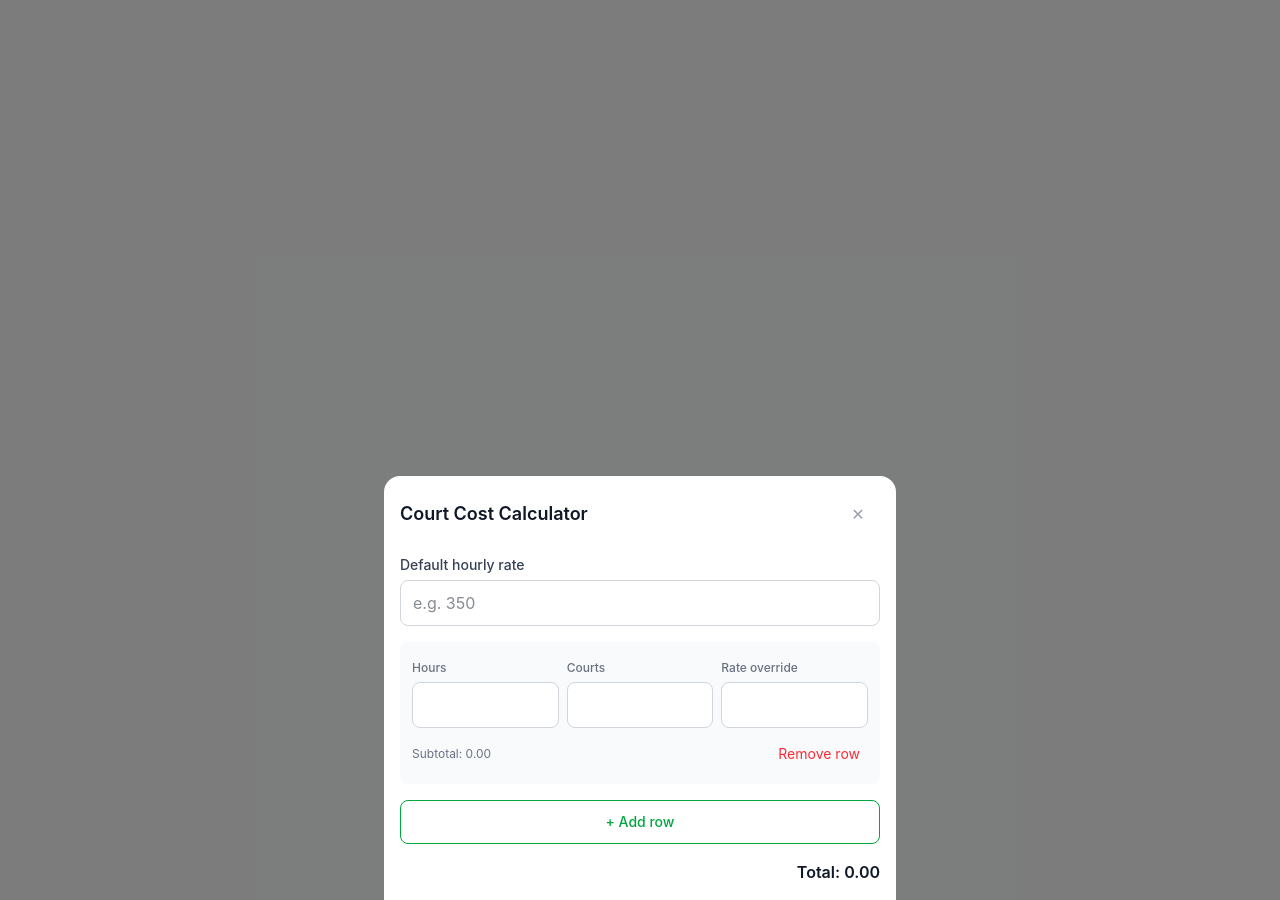
Test: CourtCostCalculator › adds and removes rows, summing subtotals
In the number field labelled "Default hourly rate": (640,603) [400,580,880,626], type "100"
In the number field labelled "Hours": (485,705) [412,682,559,728], type "1"
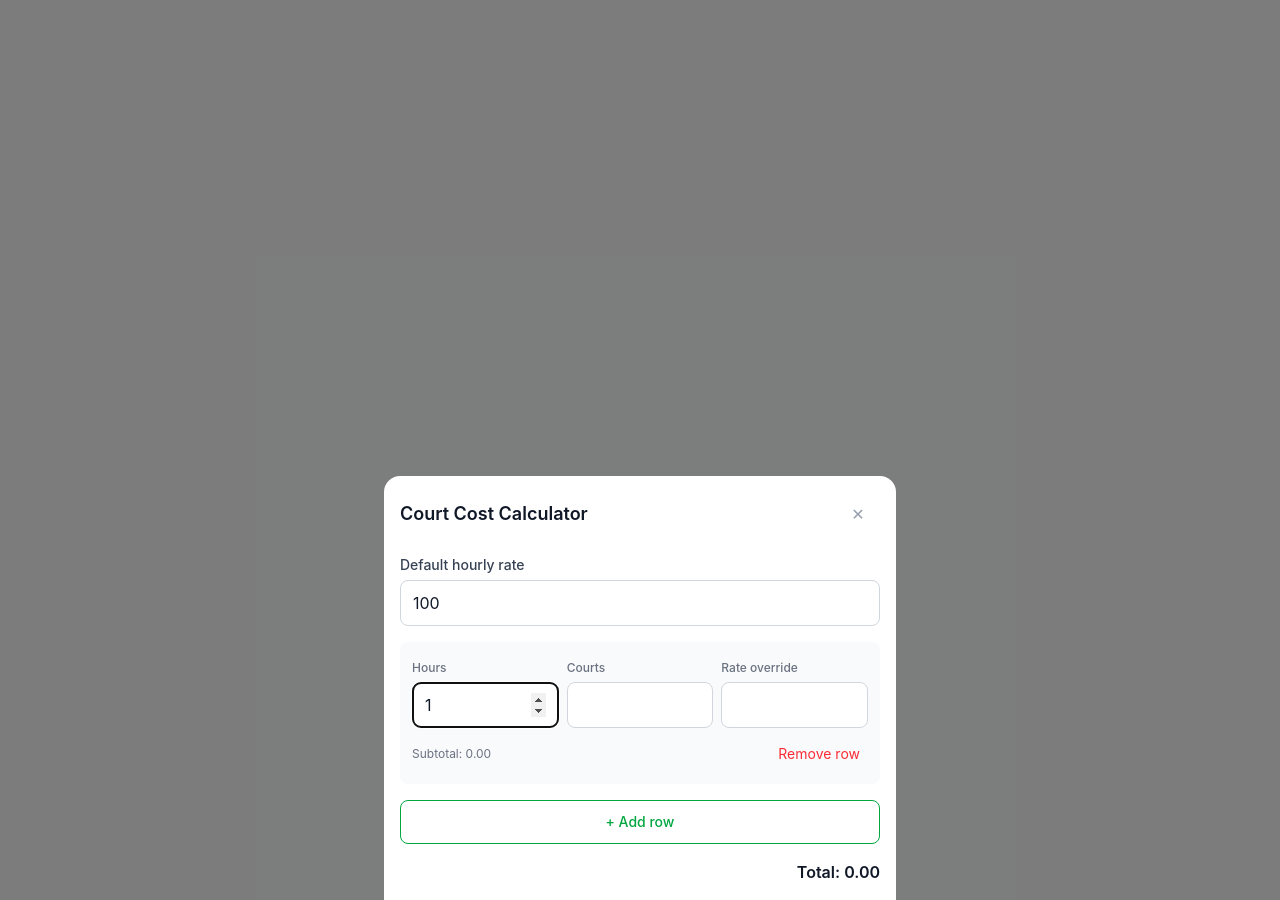
In the number field labelled "Courts": (640,705) [567,682,713,728], type "1"
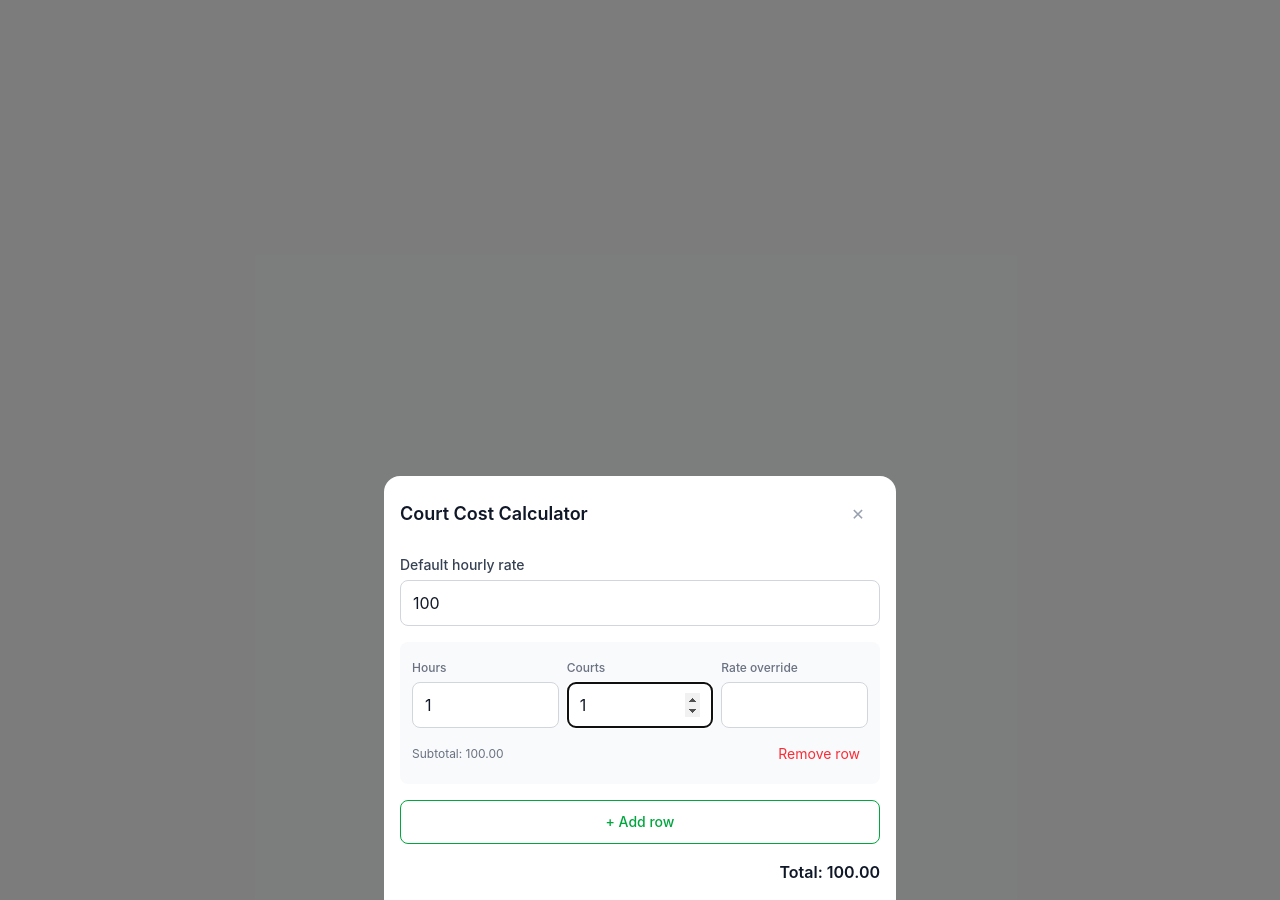
Click the button "+ Add row": (640,822) [400,800,880,844]
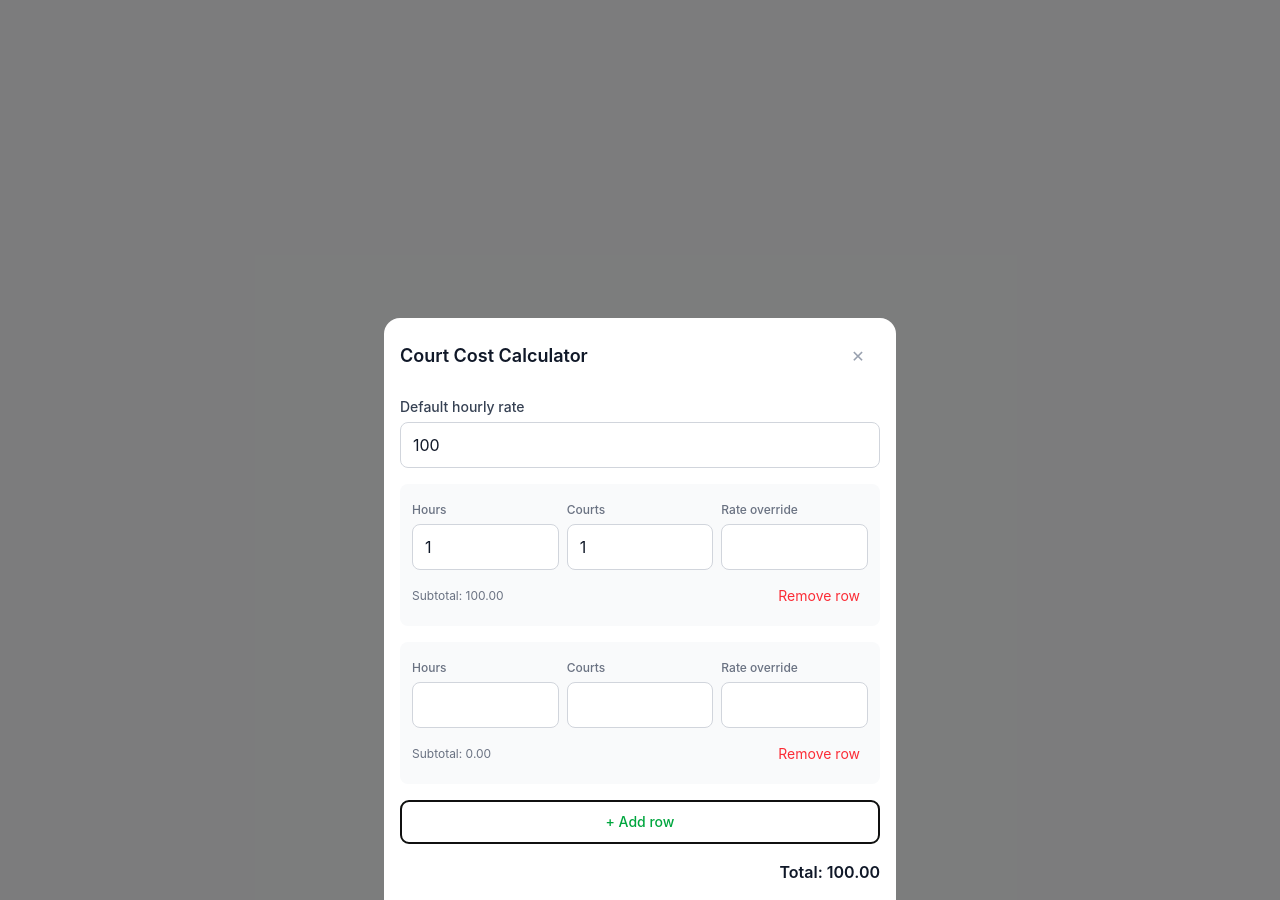
In the 2nd number field labelled "Hours": (485,705) [412,682,559,728], type "2"
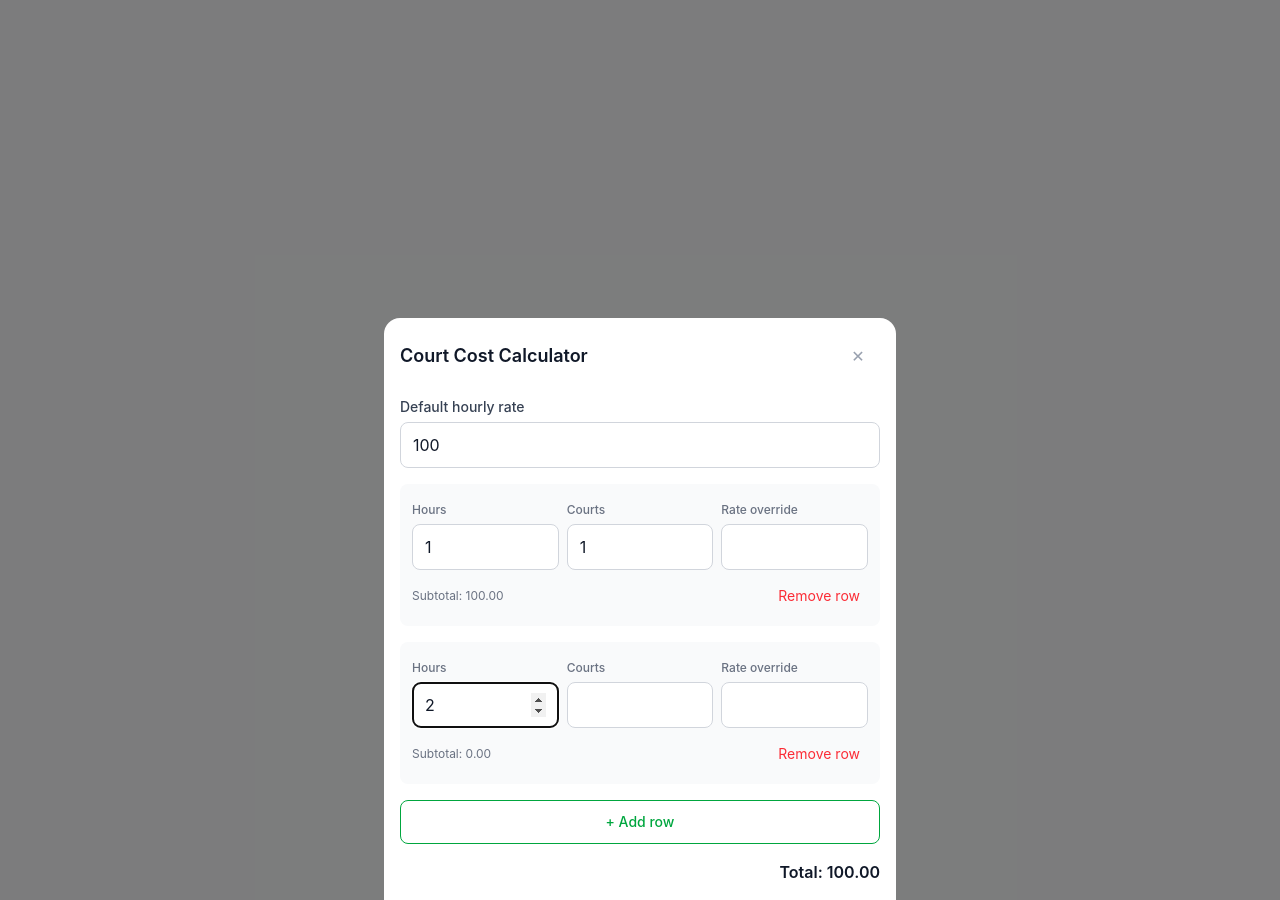
In the 2nd number field labelled "Courts": (640,705) [567,682,713,728], type "1"
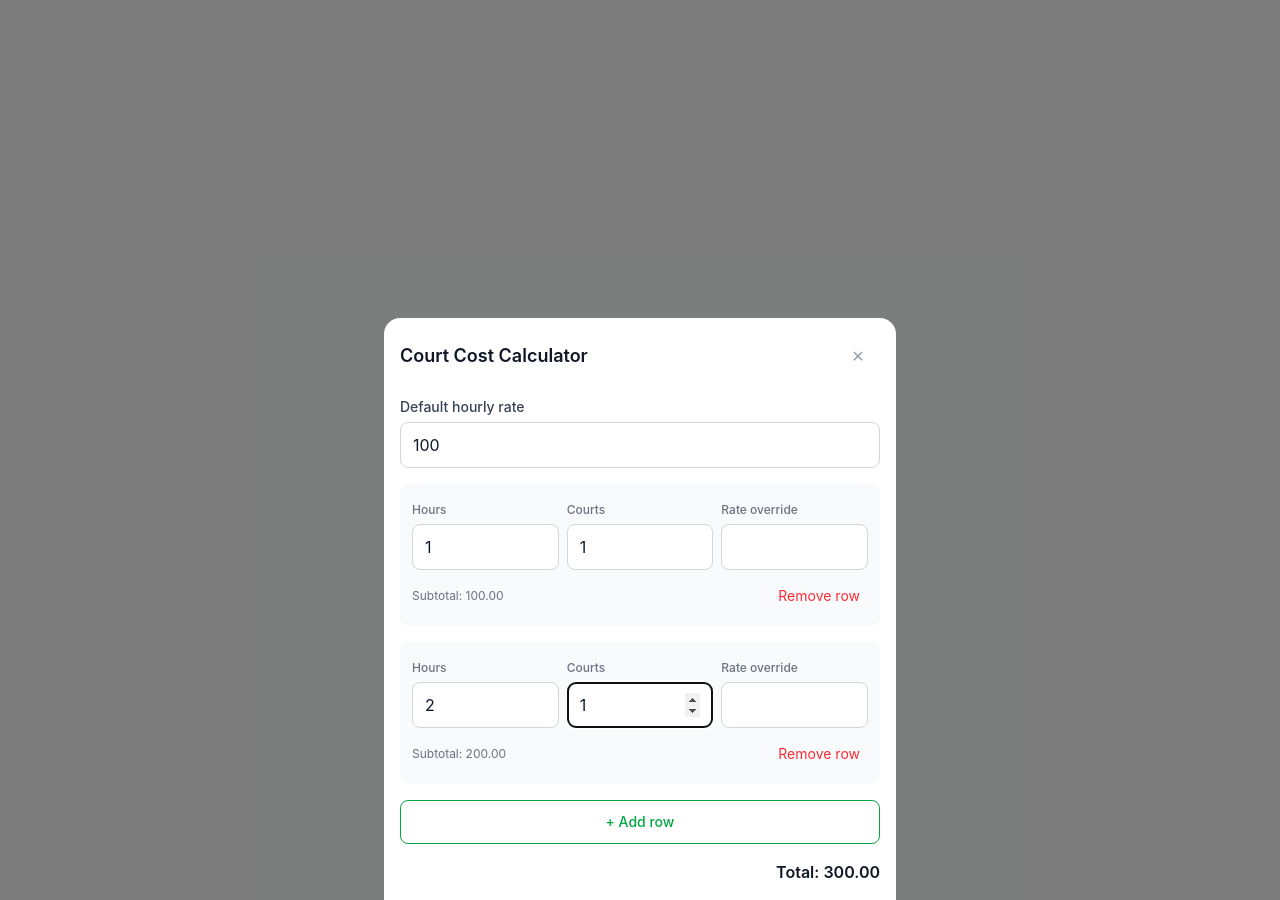
Check: the text "Total: 300.00" is shown, box [776,862,880,882]
Click the button "Remove row" in the row of "200.00": (819,754) [770,736,868,772]
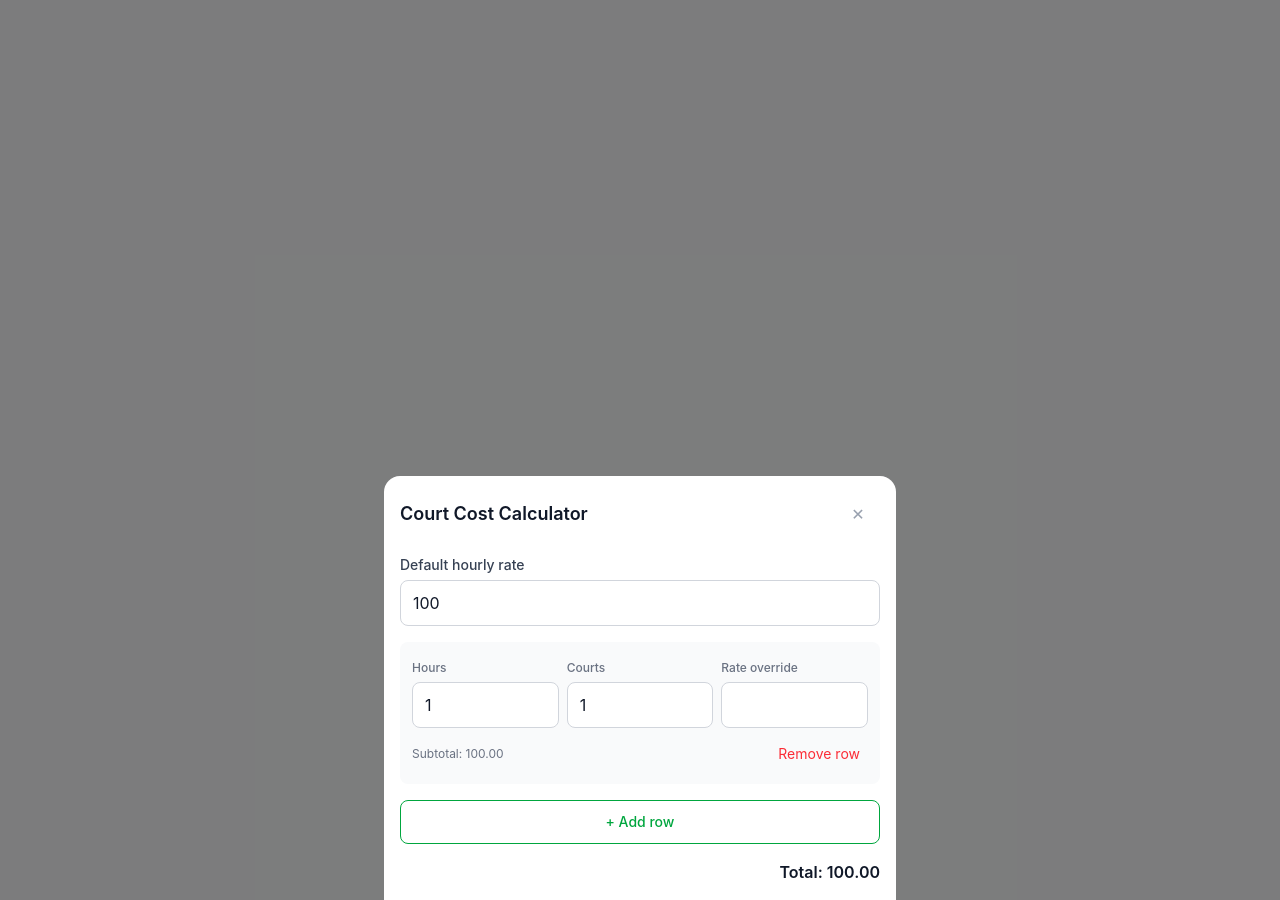
Check: the text "Total: 100.00" is shown, box [780,862,880,882]
